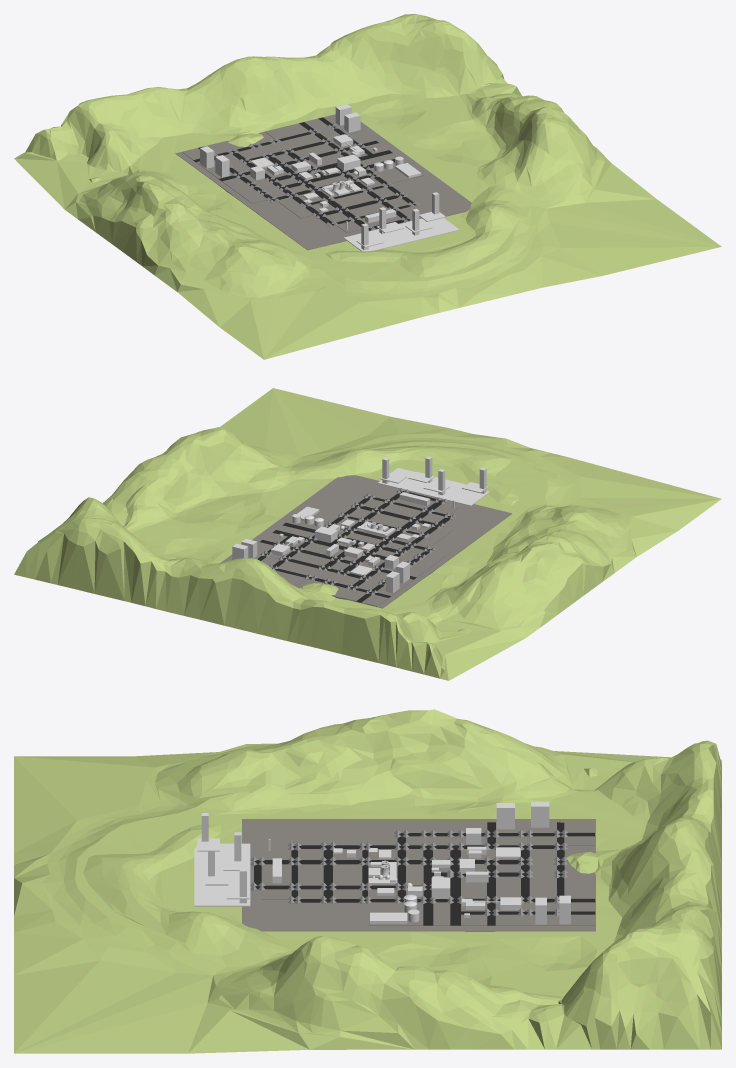
Rendered from City.FBX.
3 renders of one model, top to bottom at view 1: azimuth 30°, elevation 25°; view 2: azimuth 150°, elevation 25°; view 3: azimuth 270°, elevation 25°, orthographic. The views are drawn at different scales.
Visible parts, largest first — view 1: World Terrain, CITY BLOCKS, CITY-GROUND, STREETS, LAUNCH COMPLEX; view 2: World Terrain, CITY BLOCKS, CITY-GROUND, STREETS, LAUNCH COMPLEX; view 3: World Terrain, CITY BLOCKS, CITY-GROUND, STREETS, LAUNCH COMPLEX.
Part boxes in pixels (bbox=[...]): World Terrain: bbox=[14, 14, 721, 359]; CITY BLOCKS: bbox=[182, 114, 423, 233]; CITY-GROUND: bbox=[175, 121, 471, 250]; STREETS: bbox=[193, 117, 415, 230]; LAUNCH COMPLEX: bbox=[344, 218, 459, 251]; World Terrain: bbox=[14, 388, 721, 680]; CITY BLOCKS: bbox=[248, 489, 458, 606]; CITY-GROUND: bbox=[221, 475, 512, 608]; STREETS: bbox=[257, 491, 450, 602]; LAUNCH COMPLEX: bbox=[377, 468, 489, 505]; World Terrain: bbox=[14, 709, 721, 1053]; CITY BLOCKS: bbox=[261, 822, 595, 925]; CITY-GROUND: bbox=[242, 819, 595, 931]; STREETS: bbox=[254, 822, 595, 925]; LAUNCH COMPLEX: bbox=[194, 843, 250, 906].
Bounding box in the file's own units: 10 × 1.43 × 10.
